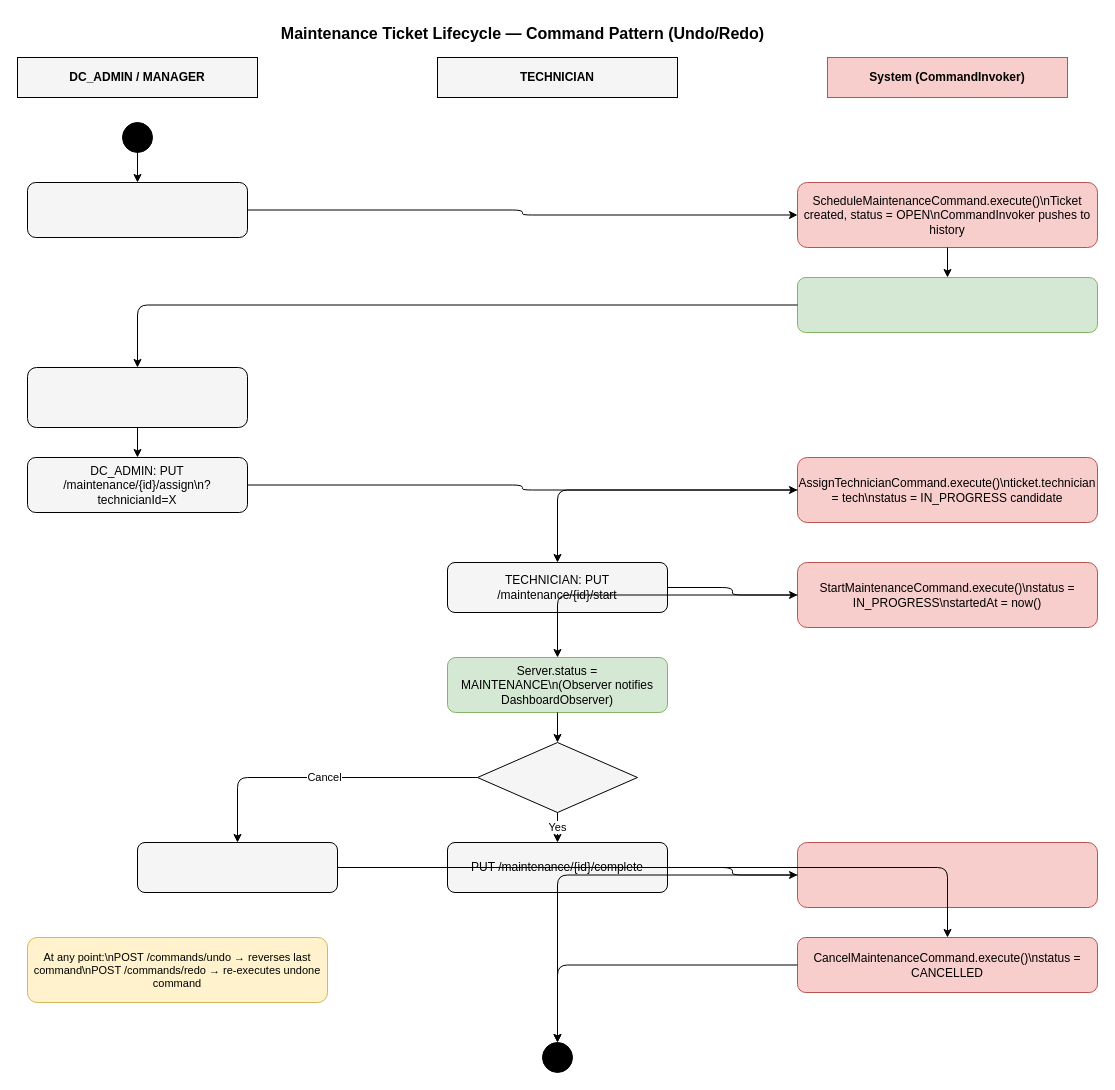
Some shapes in this 1115 by 1090 pixel diagram are drawn without their labels. Here are the shapes that lost their labels. From the top down, the centre of each, then its label:
At (x=137, y=210): "POST /api/maintenance\n{serverId, title, priority, scheduledAt}".
At (x=947, y=304): "NotificationService.notifyScheduled()\nPush to /topic/maintenance".
At (x=137, y=397): "Manager: PUT /maintenance/{id}/approve\nticket.approved = true, status = PENDING".
At (x=557, y=777): "Work done?".
At (x=237, y=867): "PUT /maintenance/{id}/cancel\n{reason}".
At (x=947, y=875): "CompleteMaintenanceCommand.execute()\nstatus = RESOLVED\nresolvedAt = now()".
